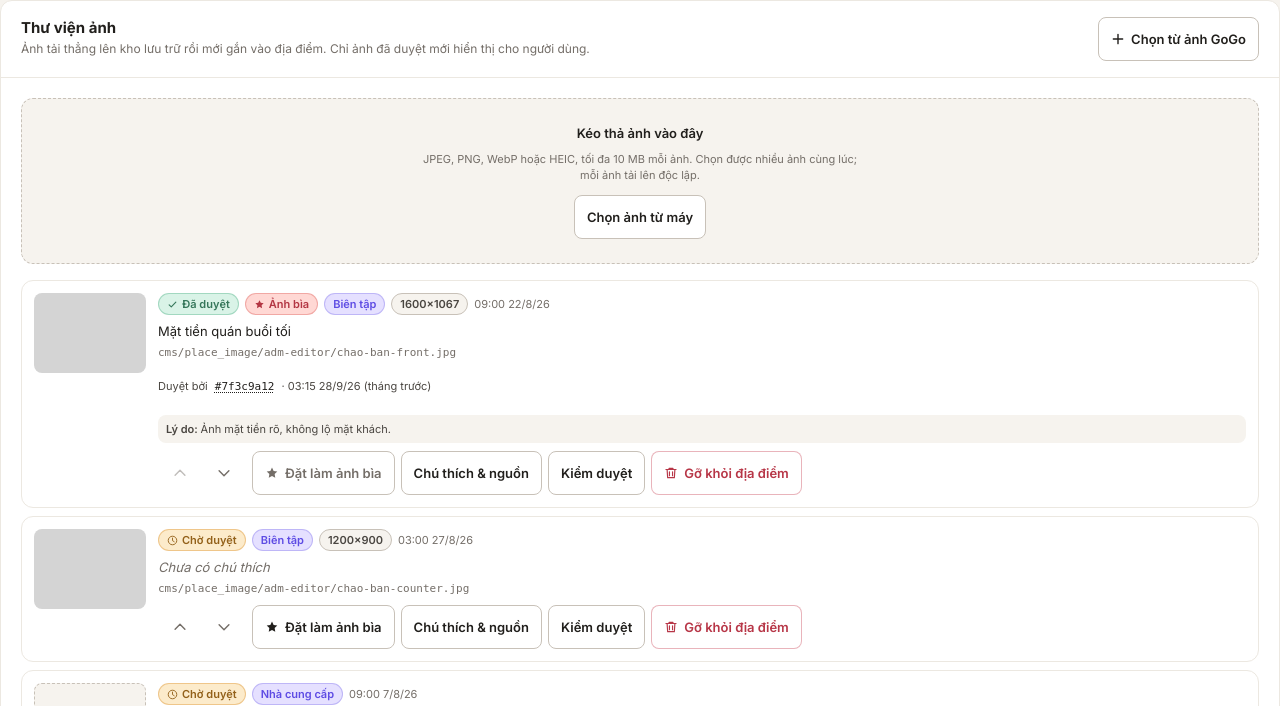
place media — editorial decisions (CMS-046) › saves a caption and the attribution that travels with the photo
The image size is (1280, 706).
Step 1. Click the button "Chú thích & nguồn" below "1200" → coordinates (471, 627), box [401,605,542,649]
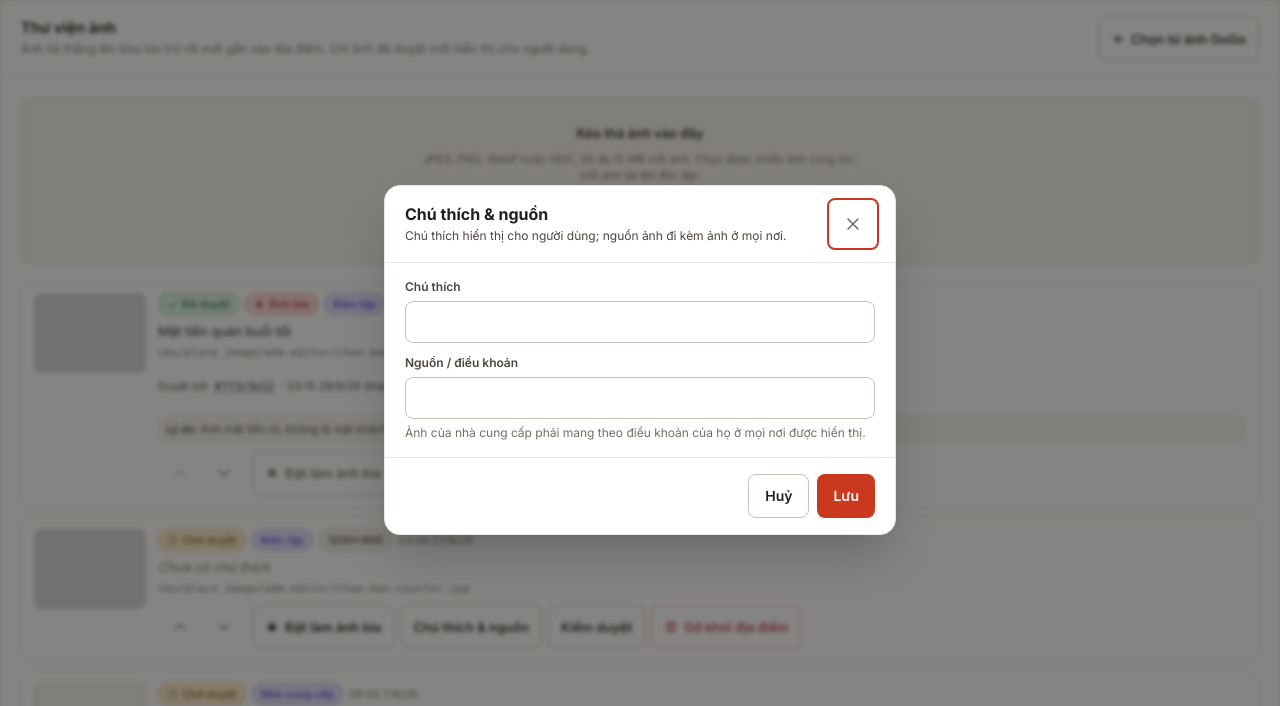
Step 2. Type "Quầy pha chế" into the field labelled "Chú thích" → coordinates (640, 322), box [405,301,875,343]
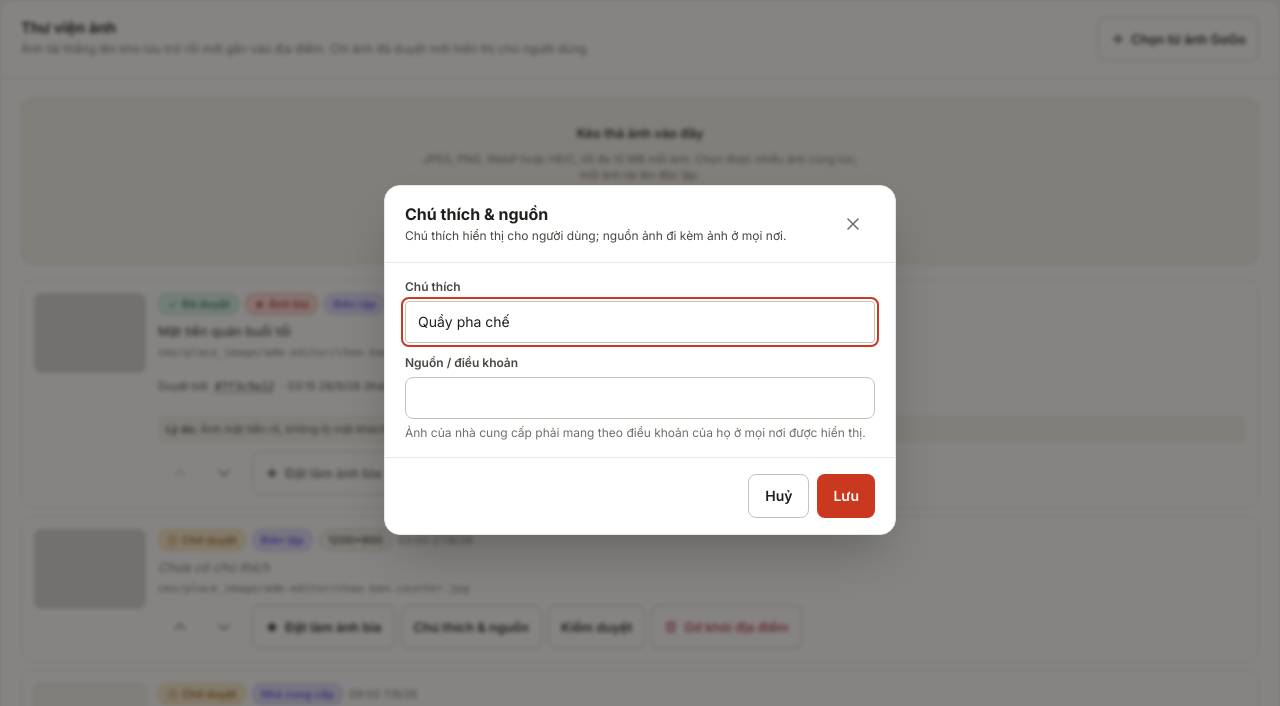
Step 3. Type "Ảnh © GoGo" into the field labelled "Nguồn / điều khoản" → coordinates (640, 398), box [405,377,875,419]
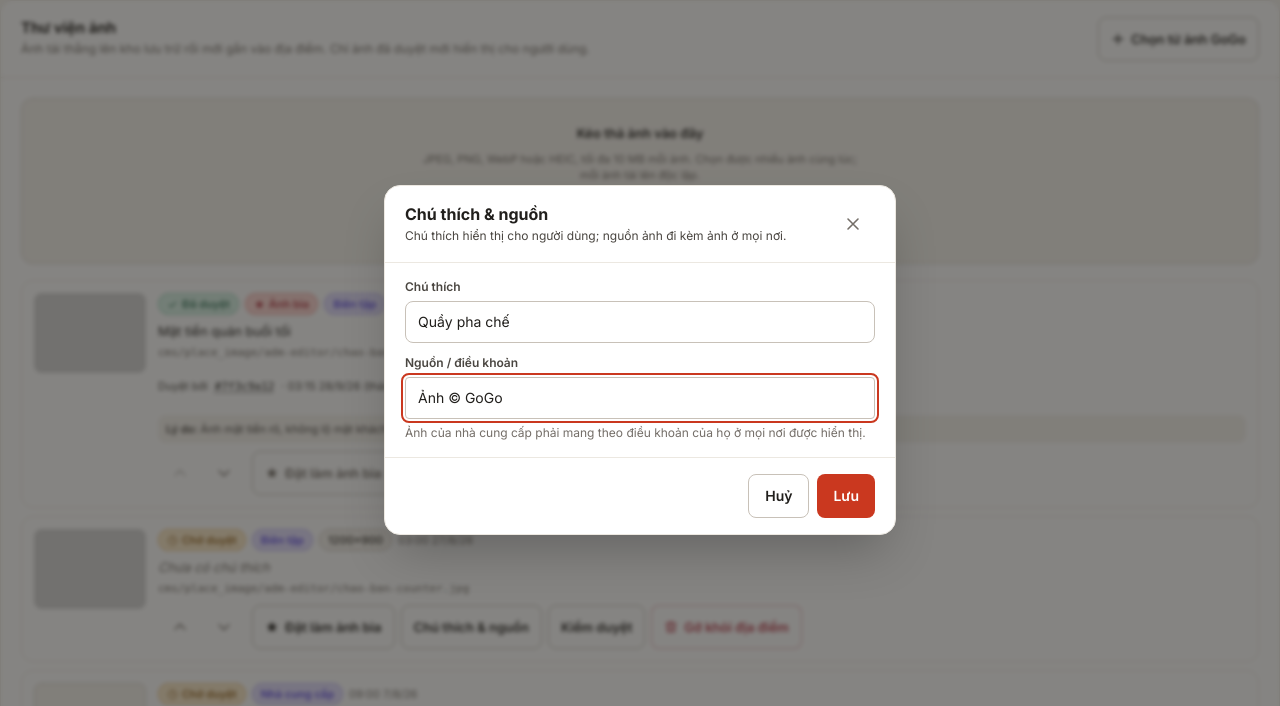
Step 4. Click the button "Lưu" → coordinates (846, 496), box [818,474,875,518]
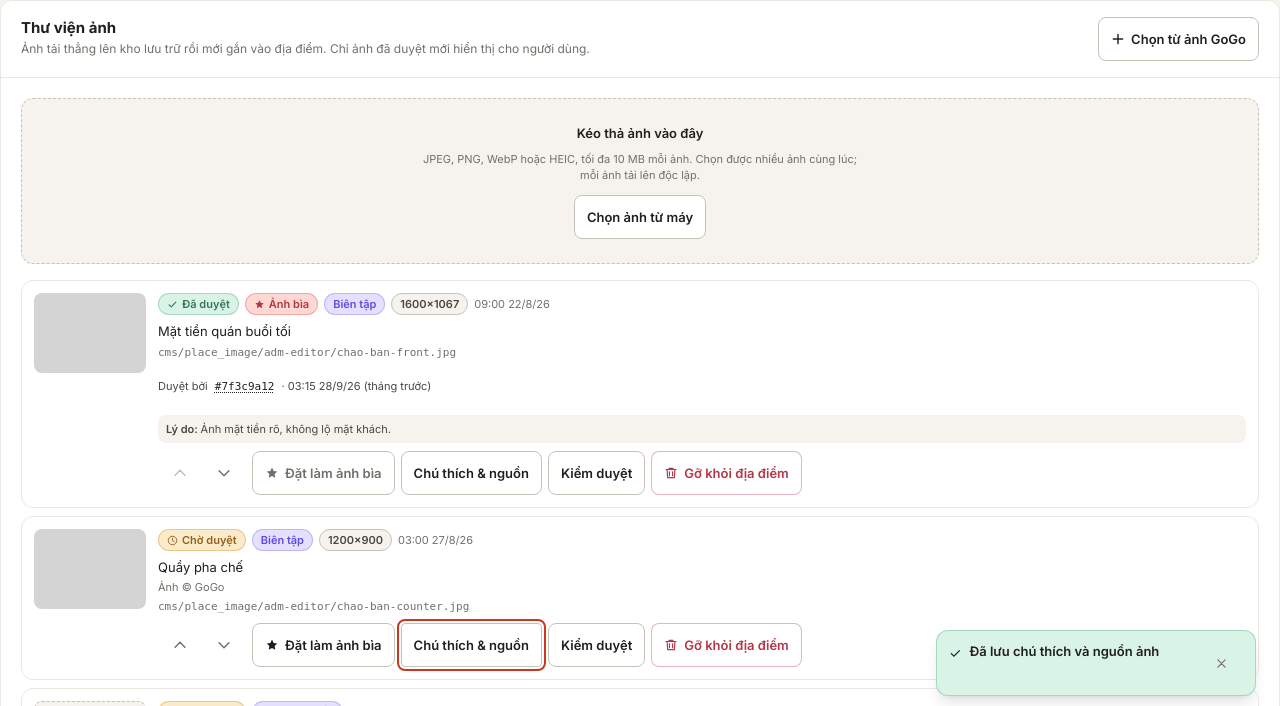
Expected: the text "Quầy pha chế" is shown, [158,559,243,575]
Expected: the text "Ảnh © GoGo" is shown, [158,580,224,594]
